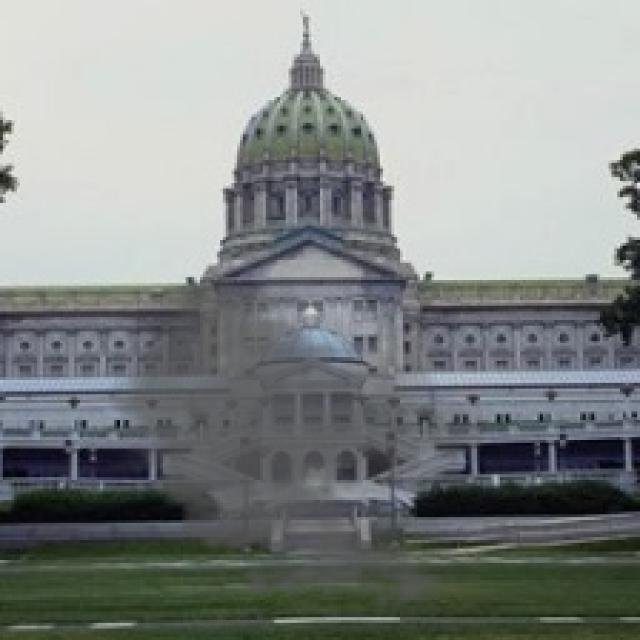smoke: (91, 271, 483, 620)
